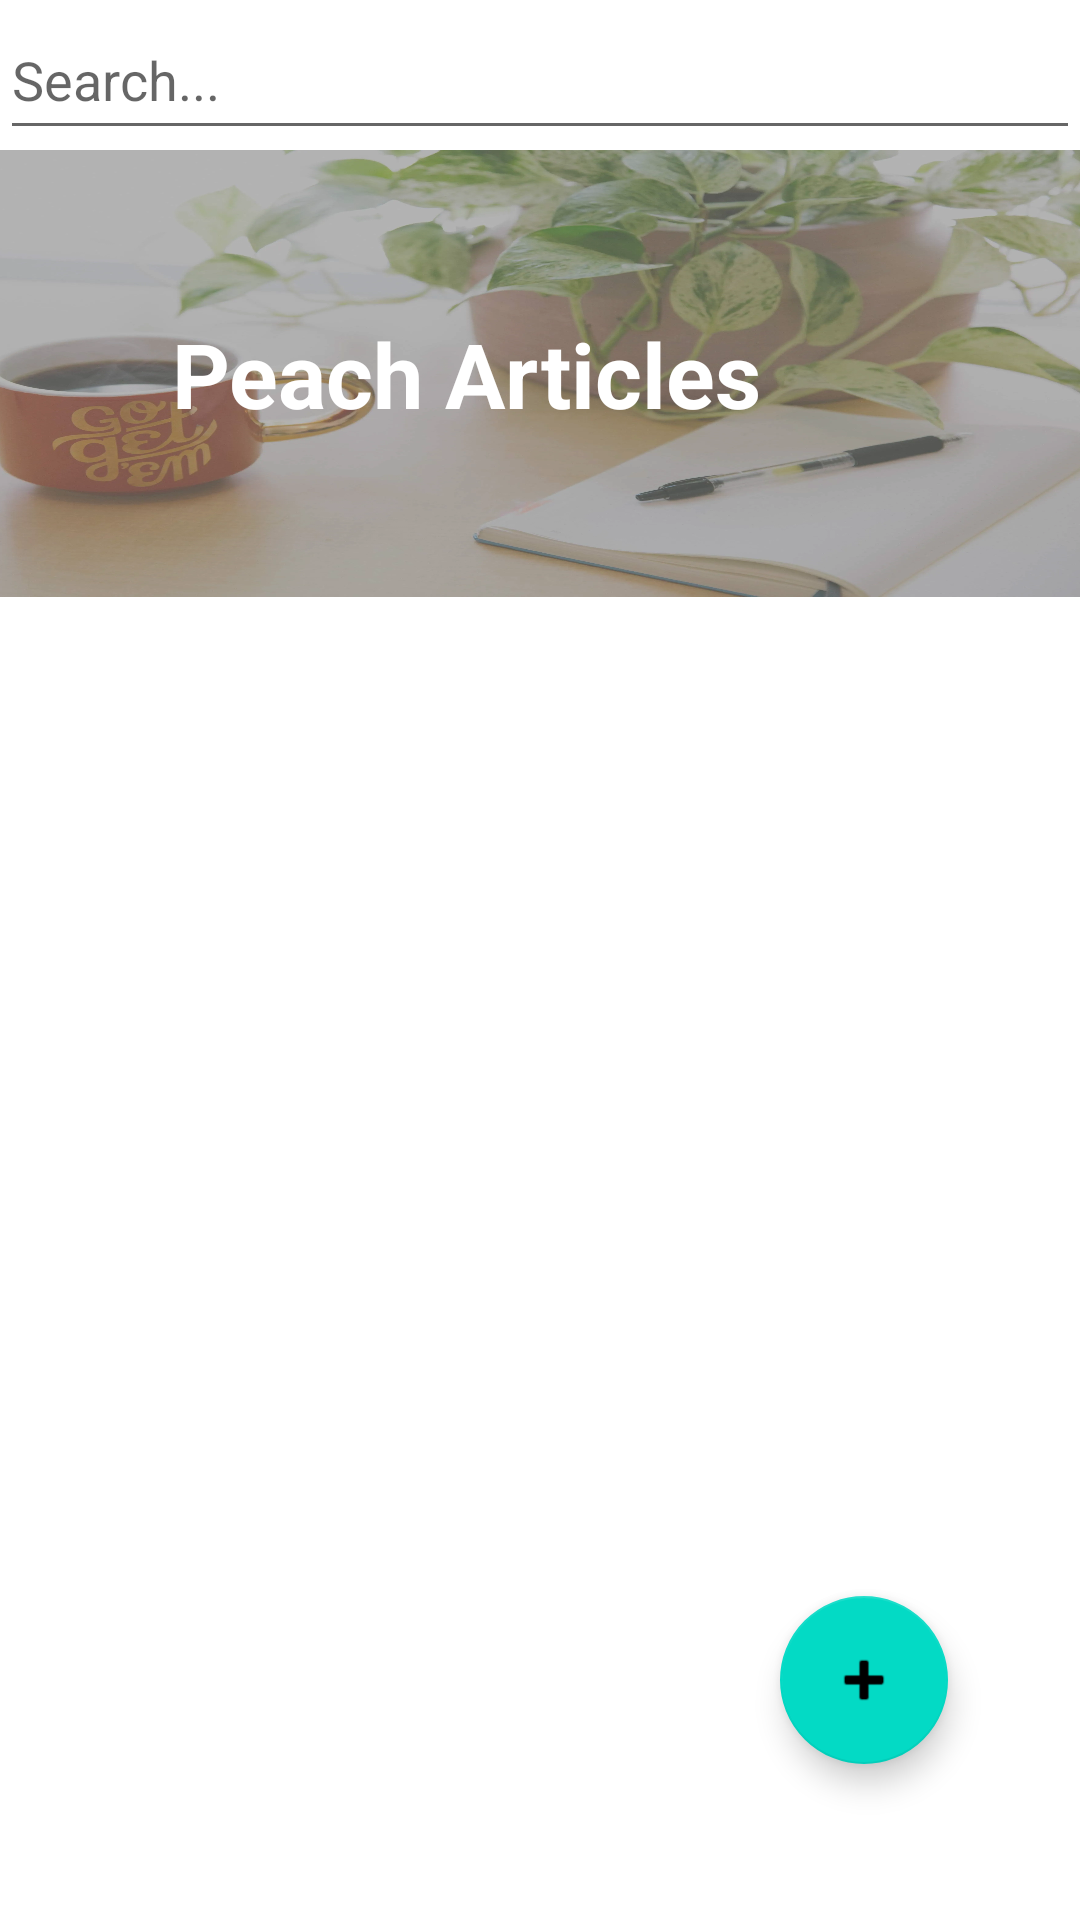

Screen size 1080px×1920px. Icon name, then its box in pixels as (x1, y1, x2, y2):
add: (780, 1596, 948, 1764)
